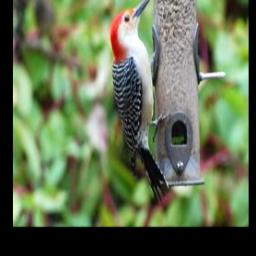Woodpecker: (110, 0, 172, 205)
